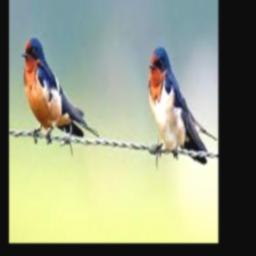Swallow: (20, 36, 99, 142), (147, 47, 217, 164)
